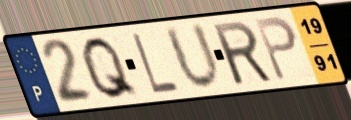2: (39, 37, 96, 109)
L: (129, 30, 183, 95)
P: (252, 14, 301, 84)
Q: (79, 34, 142, 102)
R: (209, 18, 276, 88)
U: (161, 20, 224, 94)
